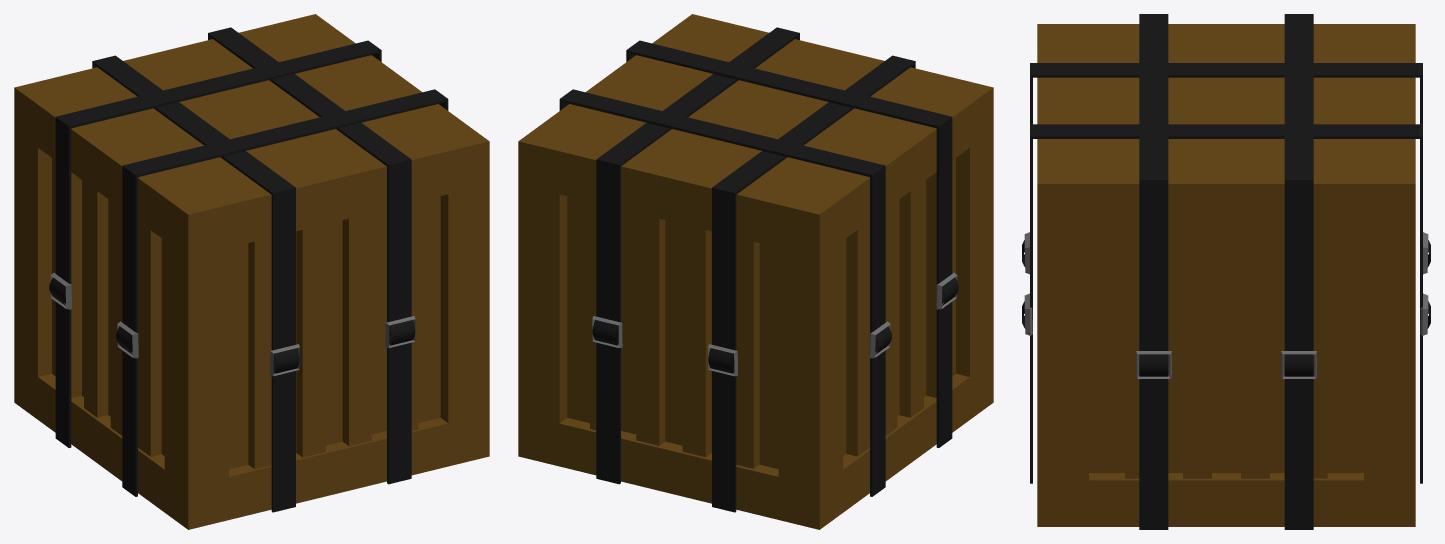
Rendered from Airdrop.glb.
3 renders of one model, left to right at view 1: azimuth 30°, elevation 25°; view 2: azimuth 150°, elevation 25°; view 3: azimuth 270°, elevation 25°, orthographic. The views are drawn at different scales.
Parts seen in each view (by area): view 1: airdrop; view 2: airdrop; view 3: airdrop.
Part boxes in pixels (left/top/right/bottom): airdrop: left=14, top=14, right=489, bottom=529; airdrop: left=518, top=14, right=993, bottom=529; airdrop: left=1022, top=14, right=1430, bottom=529.
Bounding box in the file's own units: 1.35 × 1.28 × 1.35.
